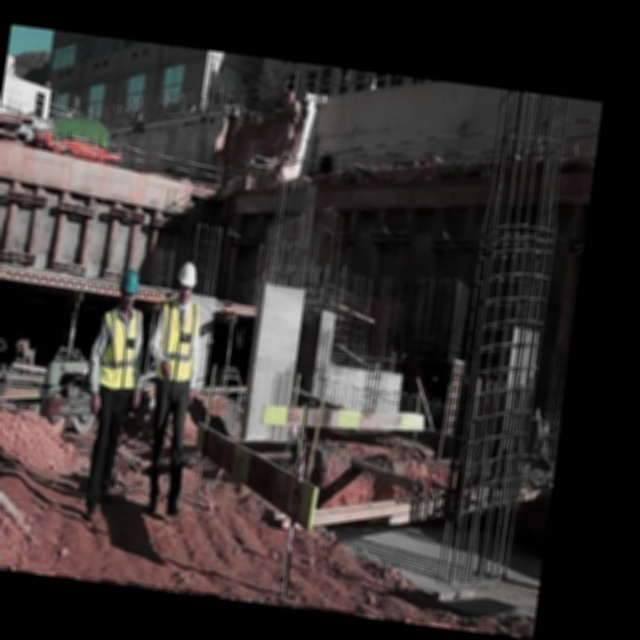Con_Casco: (175, 261, 198, 304), (119, 268, 142, 309)
Con_Chaleco: (147, 292, 205, 390), (94, 307, 148, 392)
